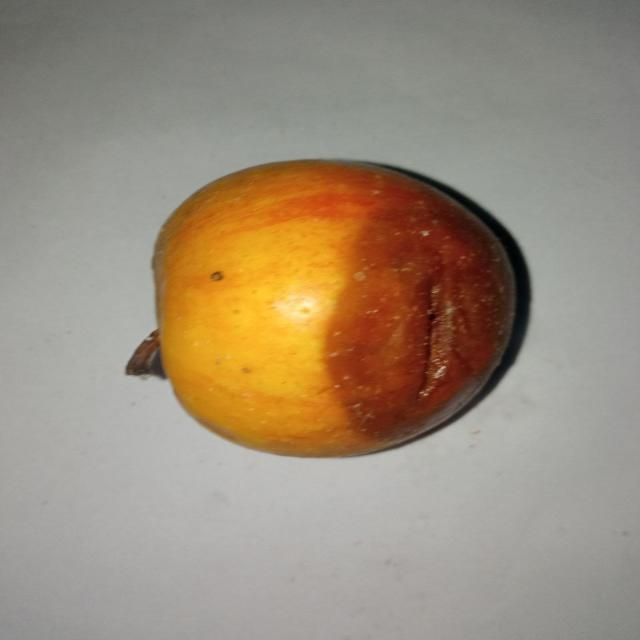rotten_apple: (153, 159, 518, 460)
